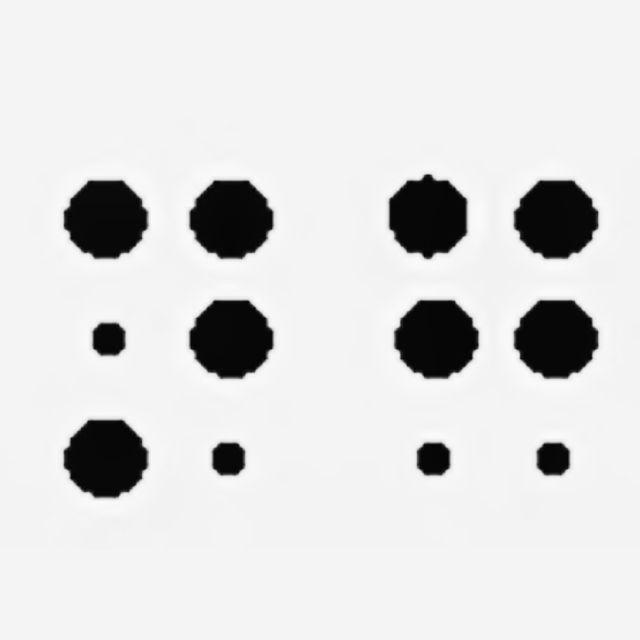g: (389, 174, 598, 493)
n: (65, 178, 274, 497)
